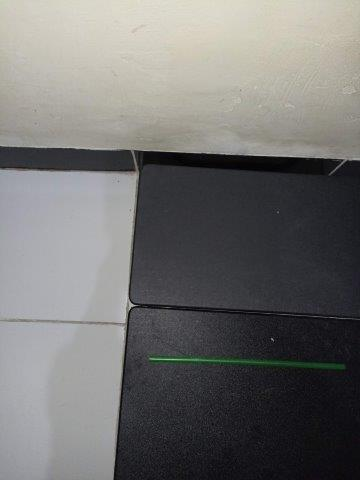sedotan: (150, 356, 345, 371)
